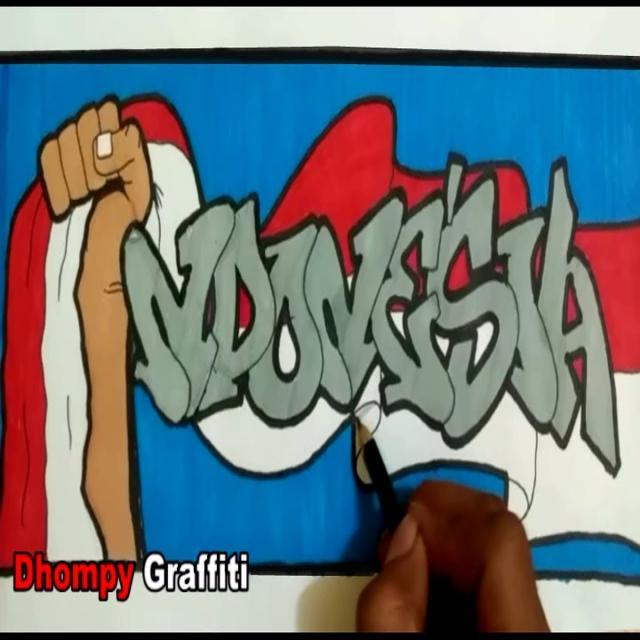-: (2, 91, 640, 568)
